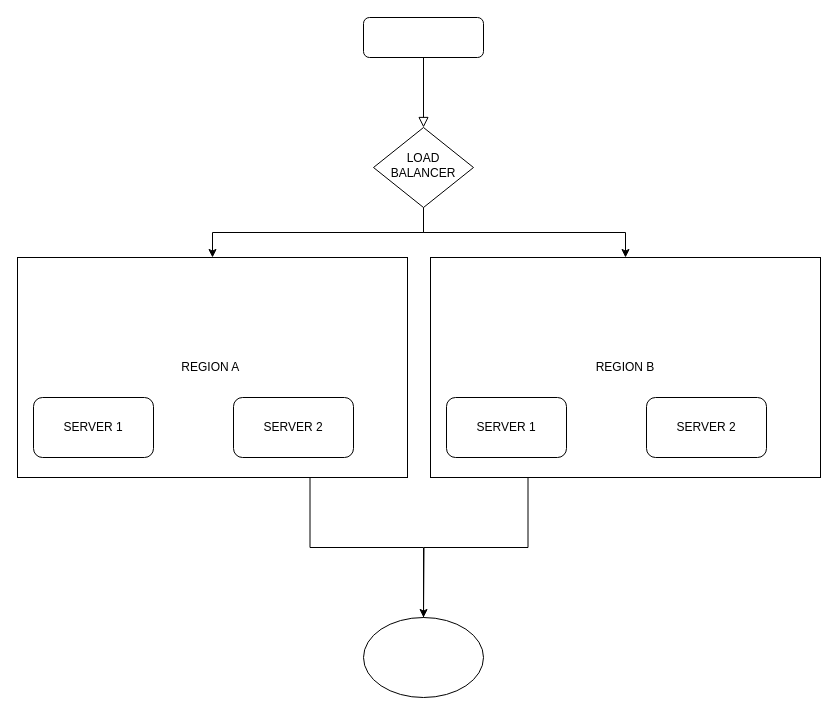
Some shapes in this 838 by 715 pixel diagram are drawn without their labels. Each missing label, with the centre of its shape:
END USER: (x=423, y=37)
WEB APPLICATION: (x=423, y=657)
